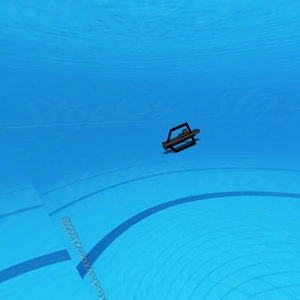submarine: (163, 119, 199, 157)
